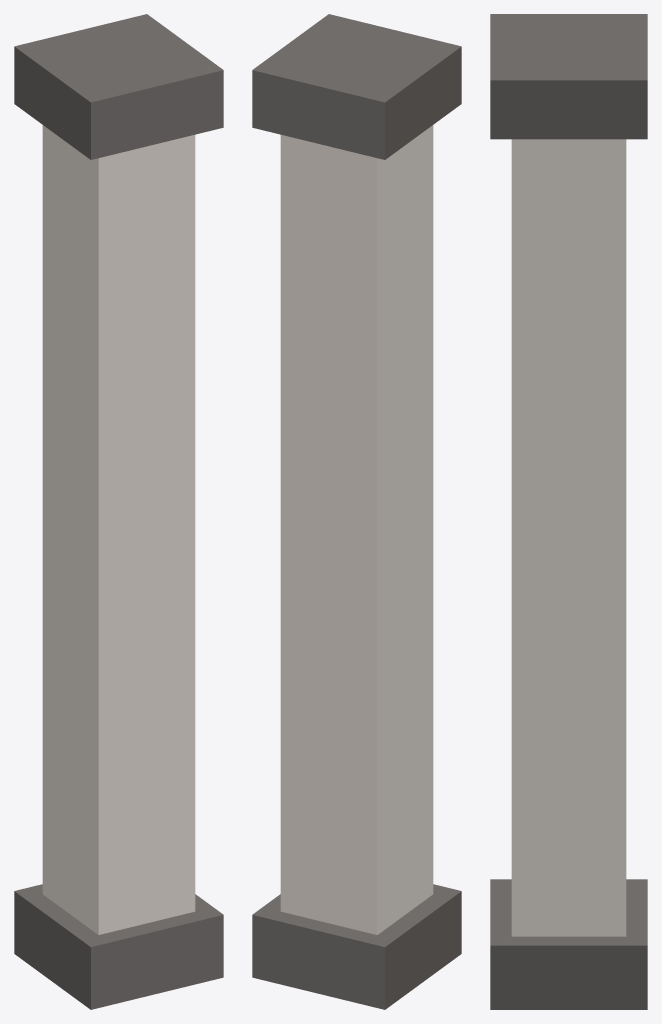
The model's file is Pillar.glb.
3 views of the same model, side by side, from view 1: azimuth 30°, elevation 25°; view 2: azimuth 150°, elevation 25°; view 3: azimuth 270°, elevation 25° (orthographic). The views are drawn at different scales.
Parts seen in each view (by area): view 1: SI_Env_Pillar; view 2: SI_Env_Pillar; view 3: SI_Env_Pillar.
Part boxes in pixels (x1,y1,x2,y2): SI_Env_Pillar: [14, 14, 223, 1009]; SI_Env_Pillar: [252, 14, 461, 1009]; SI_Env_Pillar: [490, 14, 647, 1009].
Bounding box in the file's own units: 0.0136 × 0.0886 × 0.0136.
1 material, 1 textured.
